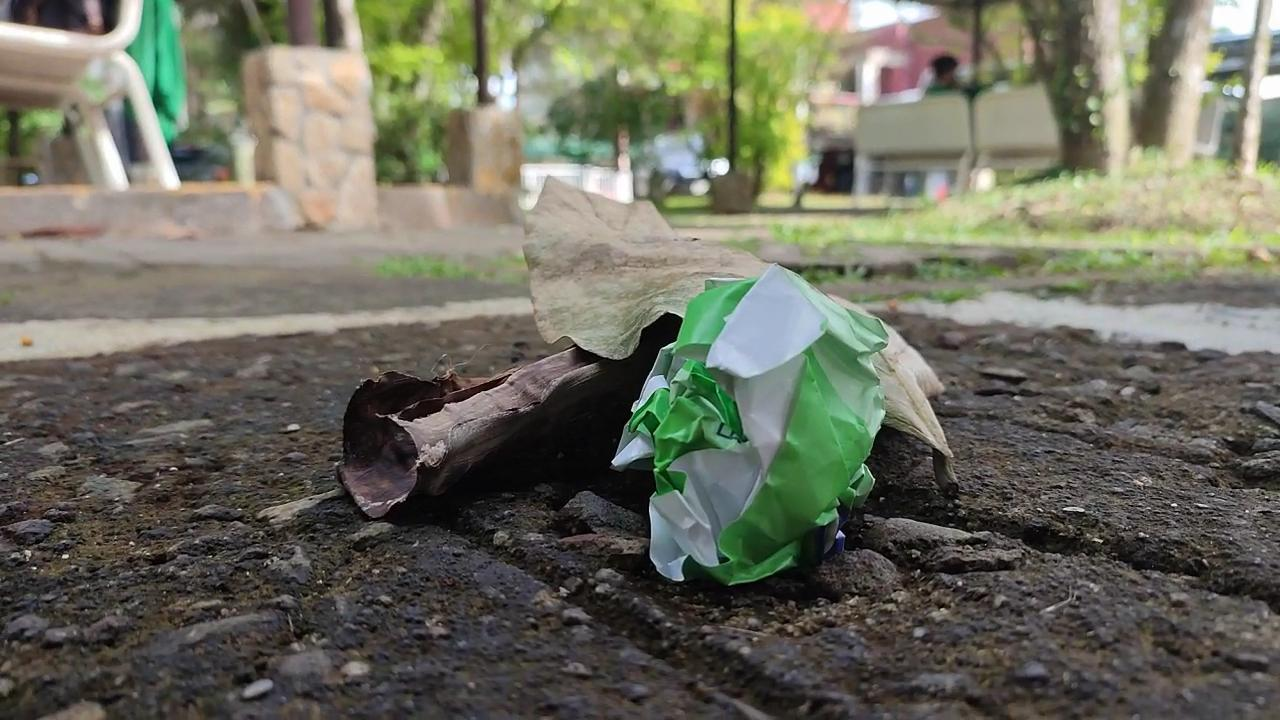Paper: (603, 248, 907, 603)
